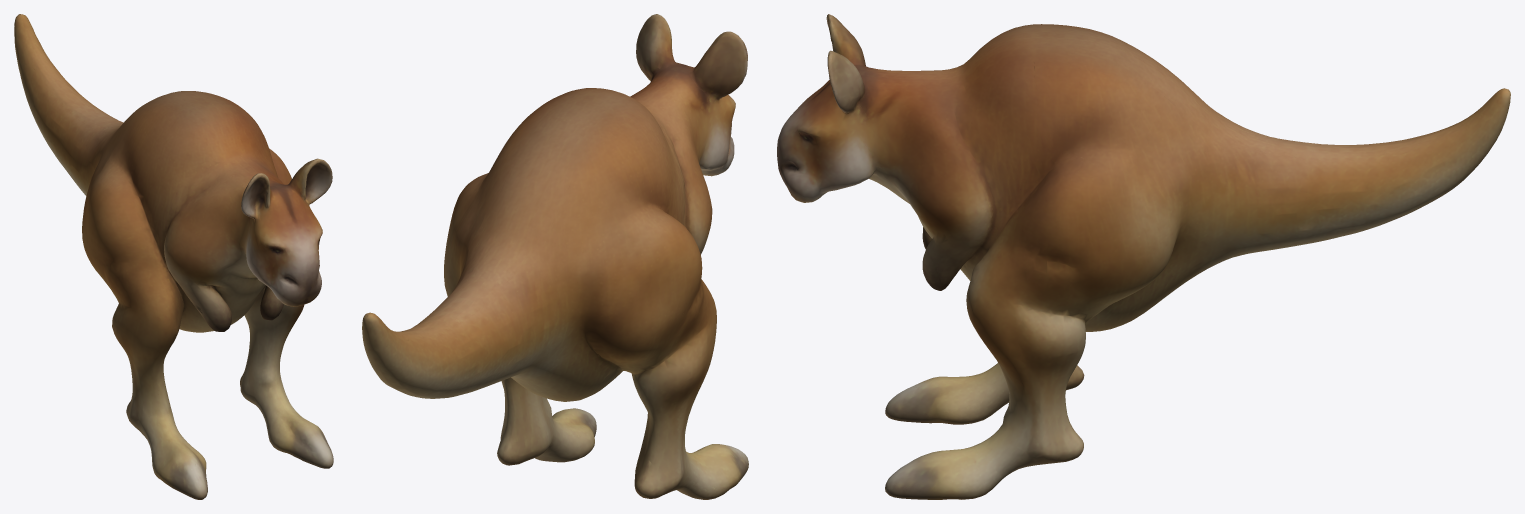
3 views of the same model, side by side, from view 1: azimuth 30°, elevation 25°; view 2: azimuth 150°, elevation 25°; view 3: azimuth 270°, elevation 25° (orthographic). The views are drawn at different scales.
Visible parts, largest first — view 1: world; view 2: world; view 3: world.
Part boxes in pixels (x1,y1,x2,y2): world: (14,14,333,499); world: (362,14,748,499); world: (777,14,1510,499).
Bounding box in the file's own units: 1.32 × 2.2 × 3.44.
1 material, 1 textured.
